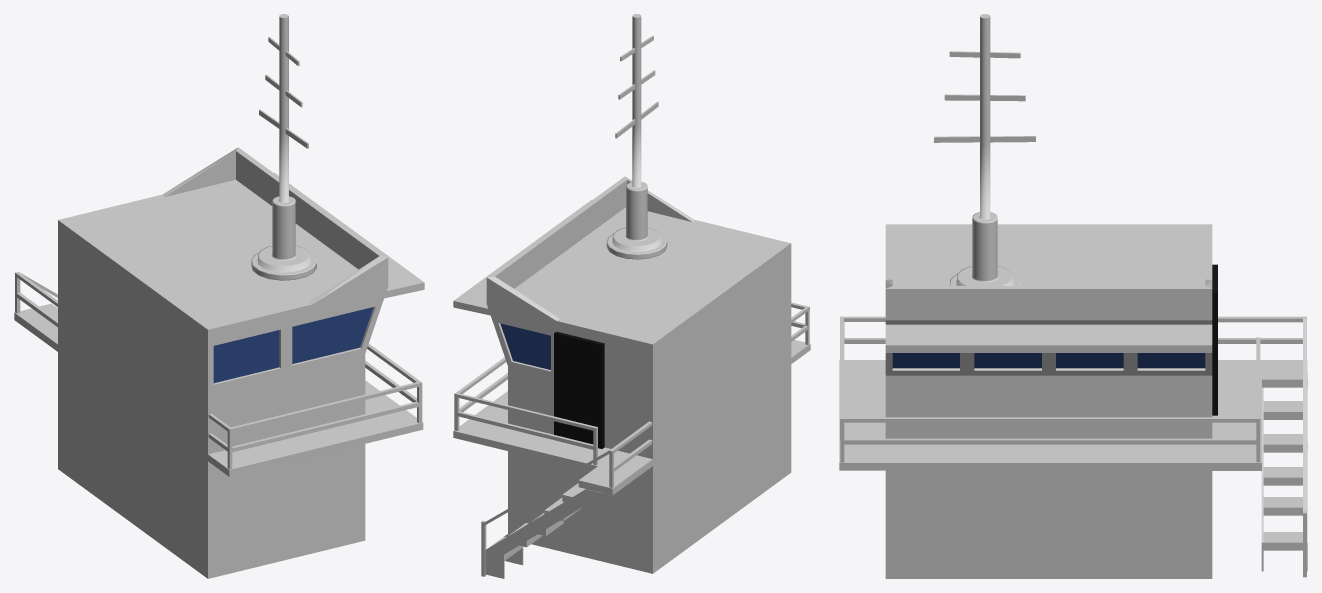
Rendered from Mostik.fbx.
3 views of the same model, side by side, from view 1: azimuth 30°, elevation 25°; view 2: azimuth 150°, elevation 25°; view 3: azimuth 270°, elevation 25° (orthographic). The views are drawn at different scales.
Parts seen in each view (by area): view 1: Mostik; view 2: Mostik; view 3: Mostik.
Boxes of the visible parts, left/top/right/bottom form: Mostik: left=14, top=14, right=424, bottom=578; Mostik: left=453, top=14, right=810, bottom=578; Mostik: left=839, top=14, right=1307, bottom=578.
Size of the model in its own units: 163 by 363 by 280.
